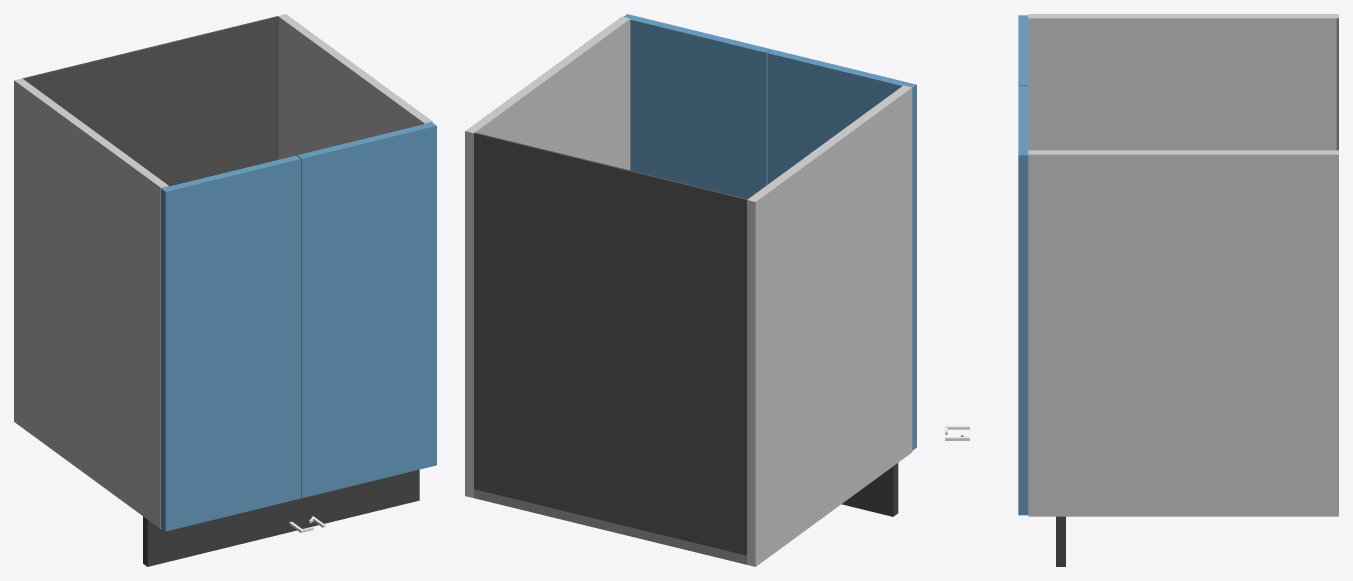
3 renders of one model, left to right at view 1: azimuth 30°, elevation 25°; view 2: azimuth 150°, elevation 25°; view 3: azimuth 270°, elevation 25°, orthographic. The views are drawn at different scales.
Visible parts, largest first — view 1: Side, Door, Obj_Door, Back, Obj_Side, Kick; view 2: Back, Side, Obj_Door, Obj_Side, Door, Base, Kick; view 3: Obj_Side, Side, Obj_Door, Door, Kick.
Boxes of the visible parts, x1,y1,x2,y2 form: Side: (14,78,168,528); Door: (161,155,300,531); Obj_Door: (297,122,436,498); Back: (22,16,278,186); Obj_Side: (278,14,432,159); Kick: (143,469,419,566); Back: (474,132,747,555); Side: (747,85,912,566); Obj_Door: (623,14,771,198); Obj_Side: (465,16,630,497); Door: (767,49,916,450); Base: (474,489,746,564); Kick: (842,463,898,516); Obj_Side: (1028,150,1338,516); Side: (1028,14,1338,150); Obj_Door: (1018,85,1028,515); Door: (1018,15,1028,85); Kick: (1056,516,1065,566).
Size of the model in its own units: 0.06 by 0.082 by 0.071.
